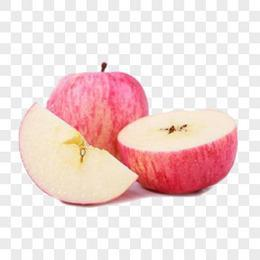apple: (19, 102, 140, 207), (116, 108, 239, 197), (44, 71, 150, 162)
